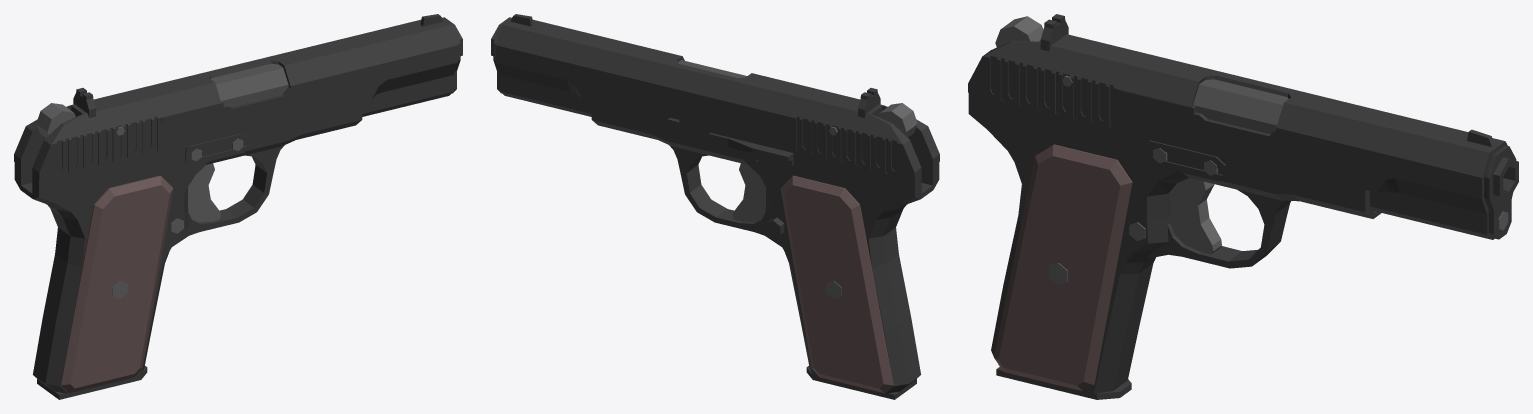
The picture shows the model from 3 angles, left to right: view 1: azimuth 30°, elevation 25°; view 2: azimuth 150°, elevation 25°; view 3: azimuth 330°, elevation 25°; orthographic projection. The views are drawn at different scales.
Parts seen in each view (by area): view 1: Tokarev Base, Tokarev Ramp, Tokarev Ejector, Tokarev B, Tokarev Mag; view 2: Tokarev Base, Tokarev Ramp, Tokarev B, Tokarev Mag; view 3: Tokarev Base, Tokarev Ramp, Tokarev Ejector, Tokarev B, Tokarev Mag.
Boxes of the visible parts, left/top/right/bottom form: Tokarev Base: left=14, top=17, right=462, bottom=393; Tokarev Ramp: left=14, top=14, right=457, bottom=179; Tokarev Ejector: left=211, top=63, right=288, bottom=106; Tokarev B: left=36, top=103, right=75, bottom=137; Tokarev Mag: left=37, top=366, right=147, bottom=399; Tokarev Base: left=491, top=17, right=939, bottom=393; Tokarev Ramp: left=496, top=14, right=939, bottom=179; Tokarev B: left=878, top=103, right=917, bottom=137; Tokarev Mag: left=806, top=366, right=916, bottom=399; Tokarev Base: left=968, top=93, right=1518, bottom=393; Tokarev Ramp: left=968, top=14, right=1507, bottom=214; Tokarev Ejector: left=1193, top=79, right=1288, bottom=134; Tokarev B: left=995, top=16, right=1043, bottom=47; Tokarev Mag: left=996, top=367, right=1131, bottom=399.
Size of the model in its own units: 669 by 434 by 91.73.
